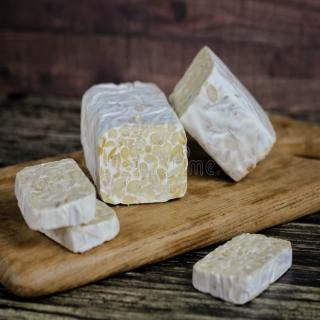Tempe: (169, 45, 277, 183), (193, 233, 294, 306), (15, 158, 98, 232), (42, 199, 121, 254)
